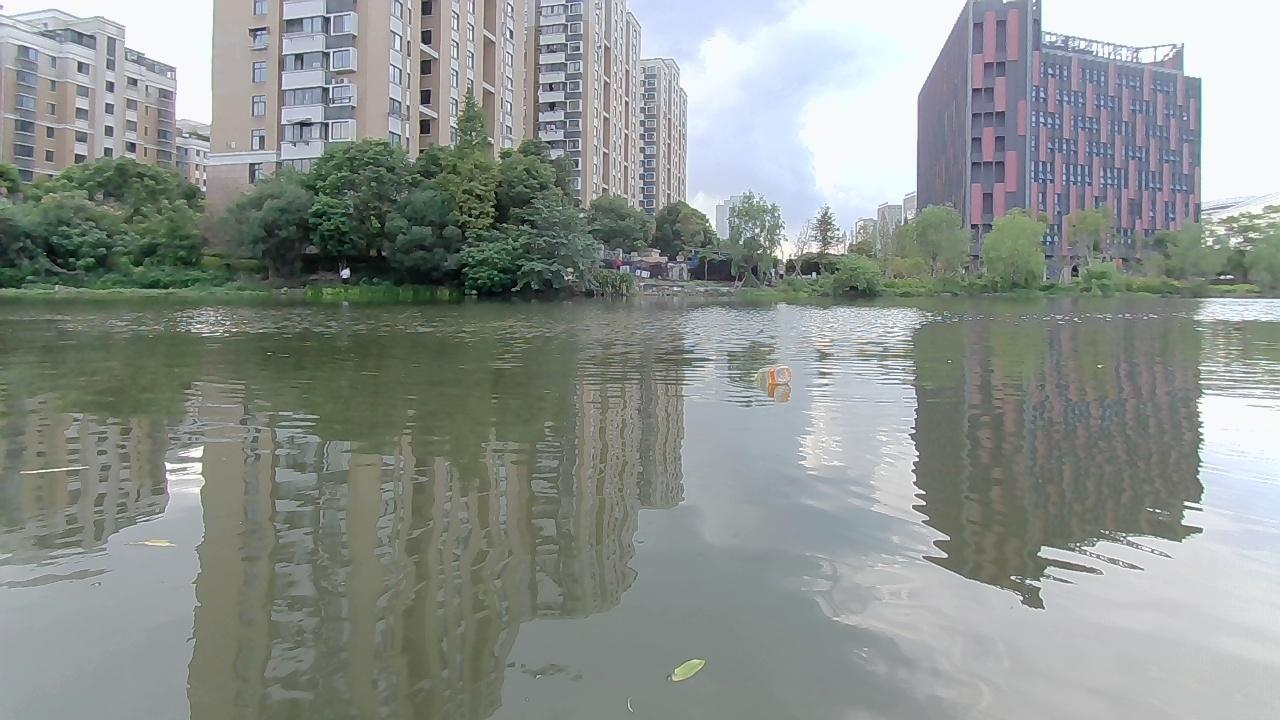bottle: (750, 362, 793, 389)
